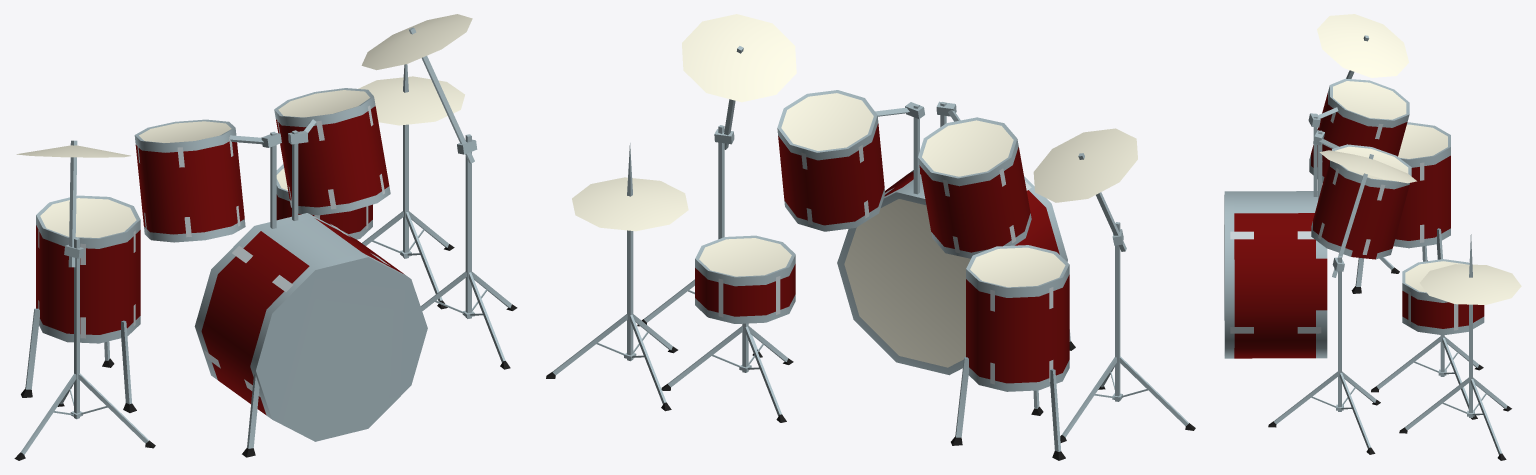
File: musical_instrument_012.glb
The picture shows the model from 3 angles, left to right: view 1: azimuth 30°, elevation 25°; view 2: azimuth 150°, elevation 25°; view 3: azimuth 270°, elevation 25°; orthographic projection. The views are drawn at different scales.
Visible parts, largest first — view 1: musical_instrument_012; view 2: musical_instrument_012; view 3: musical_instrument_012.
Part boxes in pixels (box(x1,y1,x2,y2)): musical_instrument_012: box(14, 14, 517, 460); musical_instrument_012: box(546, 14, 1195, 460); musical_instrument_012: box(1224, 14, 1521, 460).
Size of the model in its own units: 2.13 by 1.17 by 1.19.
Materials: 1 (1 with a texture image).
